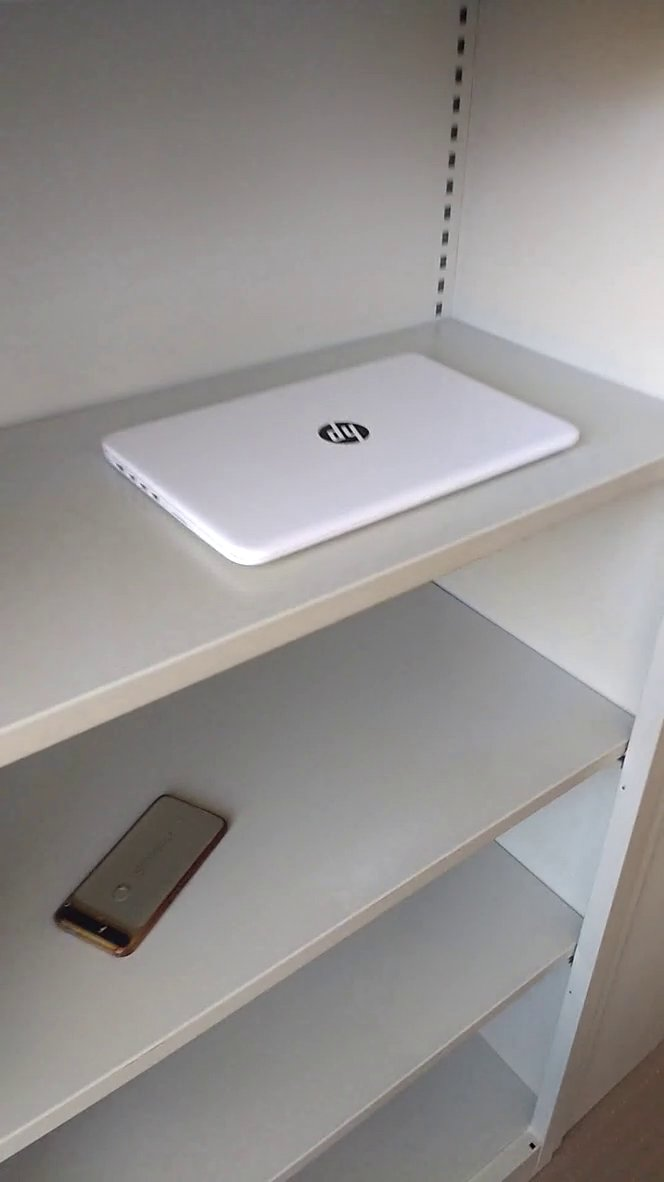laptop: (84, 344, 602, 585)
phone: (46, 783, 240, 966)
